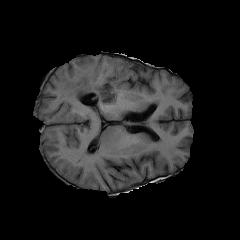glioma: (60, 70, 128, 107)
